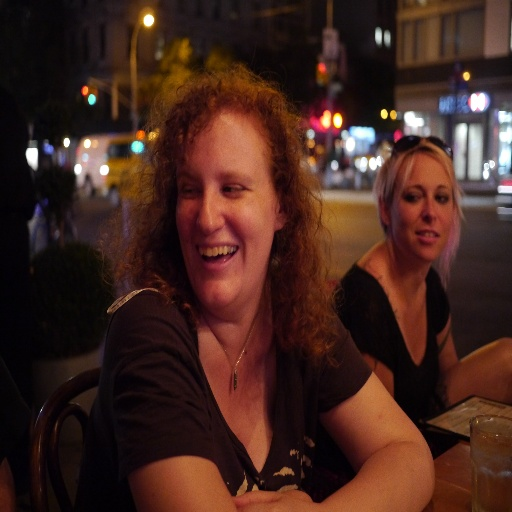hand: (230, 486, 322, 511)
